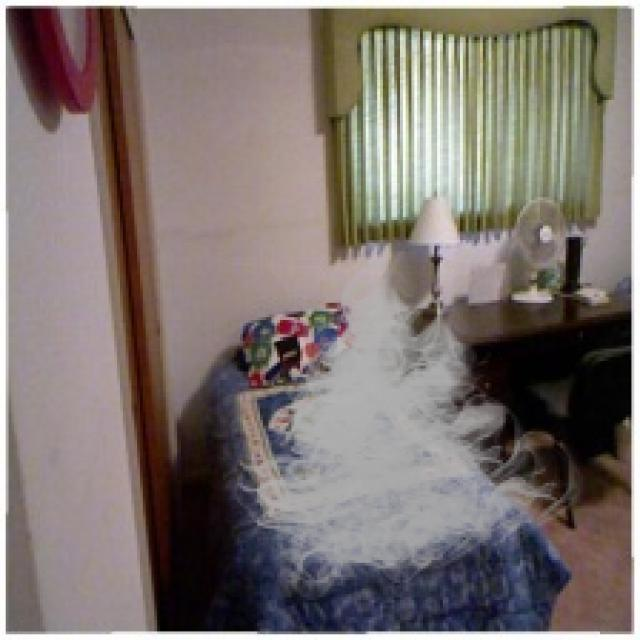smoke: (223, 252, 588, 608)
